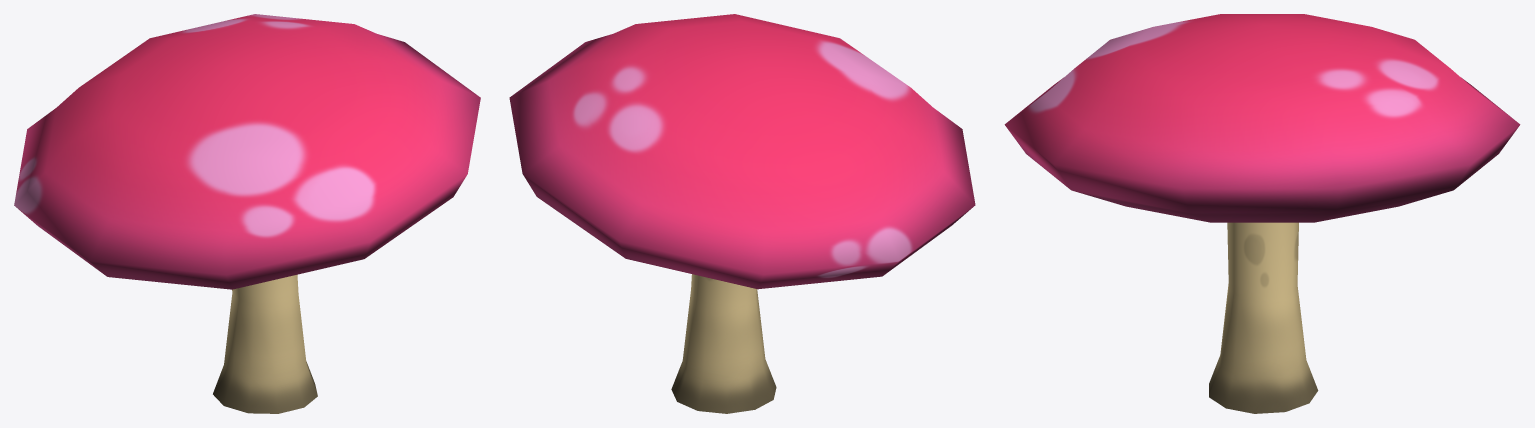
The model's file is mushroom-4.fbx.
The picture shows the model from 3 angles, left to right: view 1: azimuth 30°, elevation 25°; view 2: azimuth 150°, elevation 25°; view 3: azimuth 270°, elevation 25°; orthographic projection. The views are drawn at different scales.
Parts seen in each view (by area): view 1: Sphere; view 2: Sphere; view 3: Sphere.
Boxes of the visible parts, box(x1,y1,x2,y2) form: Sphere: box(14, 14, 480, 413); Sphere: box(509, 14, 975, 413); Sphere: box(1004, 14, 1520, 413).
Size of the model in its own units: 1137 by 929 by 1240.
Materials: 2 (2 with a texture image).
